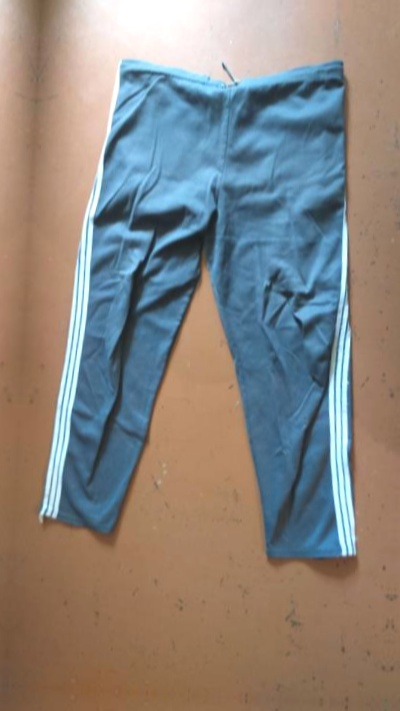Pants: (26, 30, 398, 572), (0, 10, 26, 552)
